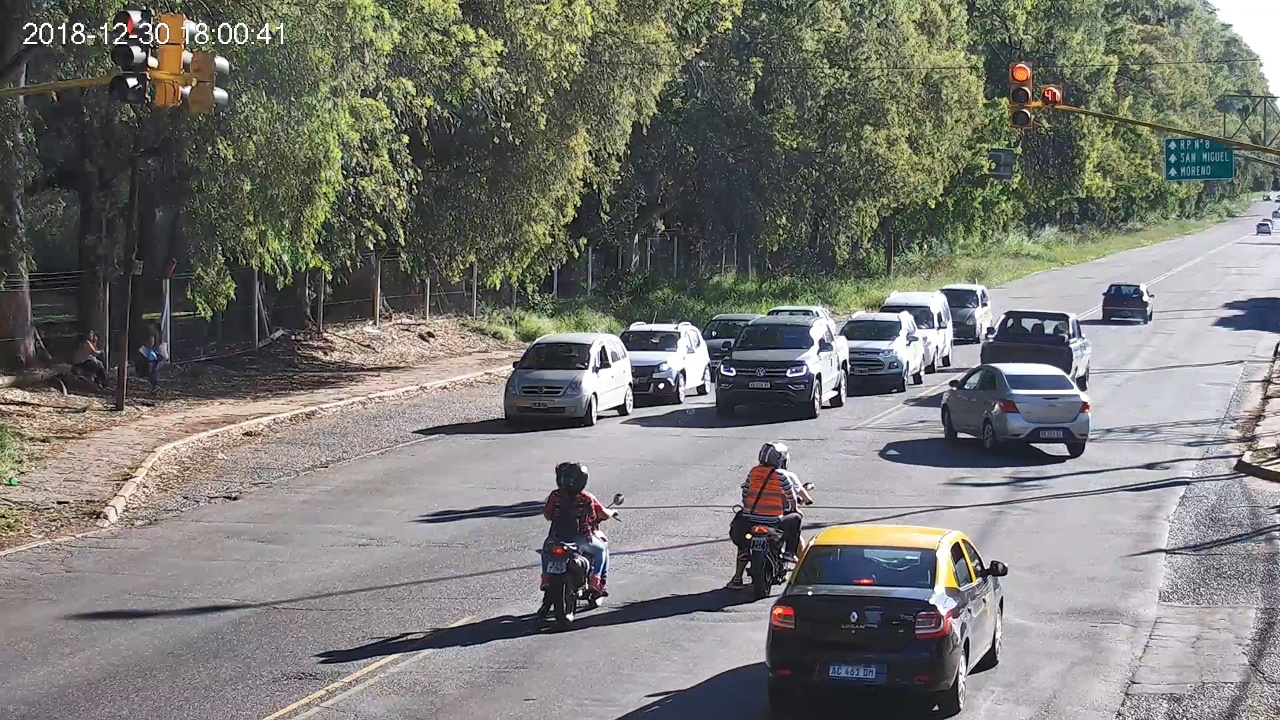car: (764, 524, 1009, 720), (1101, 283, 1155, 324)
front car: (504, 333, 634, 425)
motorcycle: (536, 492, 624, 624), (730, 482, 814, 596)
traffic light: (1009, 62, 1032, 128)
